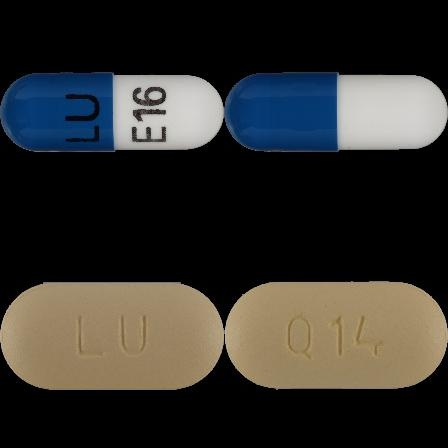68180-760: (0, 0, 224, 224)
